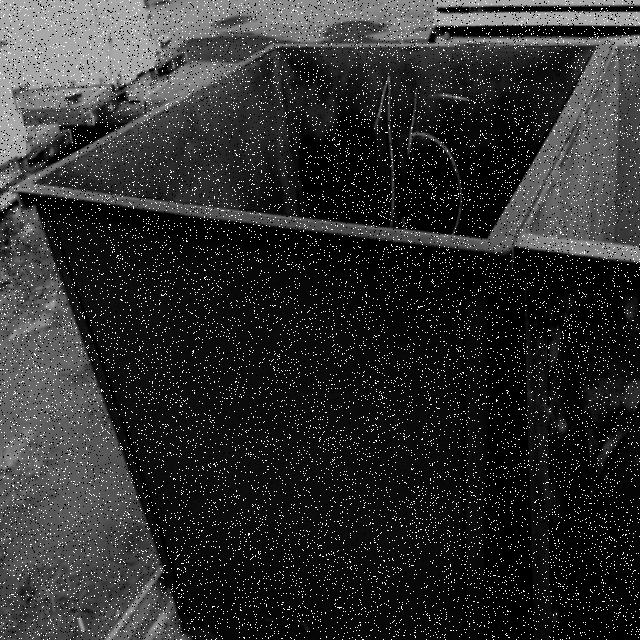Trashcan: (6, 13, 619, 639), (513, 34, 640, 640)
